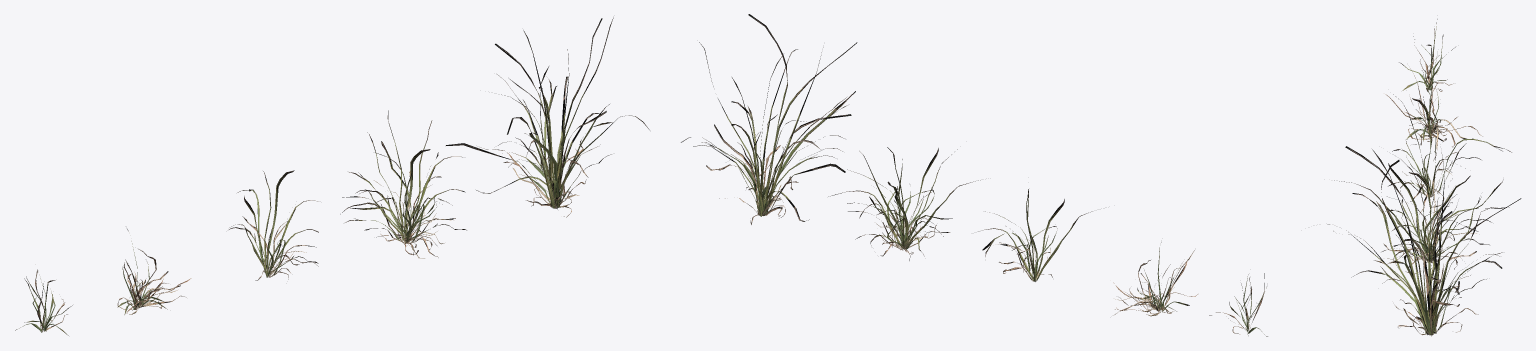
Rendered from grass_medium_02.glb.
3 views of the same model, side by side, from view 1: azimuth 30°, elevation 25°; view 2: azimuth 150°, elevation 25°; view 3: azimuth 270°, elevation 25° (orthographic). The views are drawn at different scales.
Visible parts, largest first — view 1: grass_medium_02_a; view 2: grass_medium_02_a; view 3: grass_medium_02_a.
Part boxes in pixels (x1=…): grass_medium_02_a: x1=15, y1=17, x2=649, y2=335; grass_medium_02_a: x1=681, y1=14, x2=1267, y2=336; grass_medium_02_a: x1=1327, y1=19, x2=1521, y2=336.
Size of the model in its own units: 1.31 by 0.4053 by 0.4326.
1 material, 1 textured.
